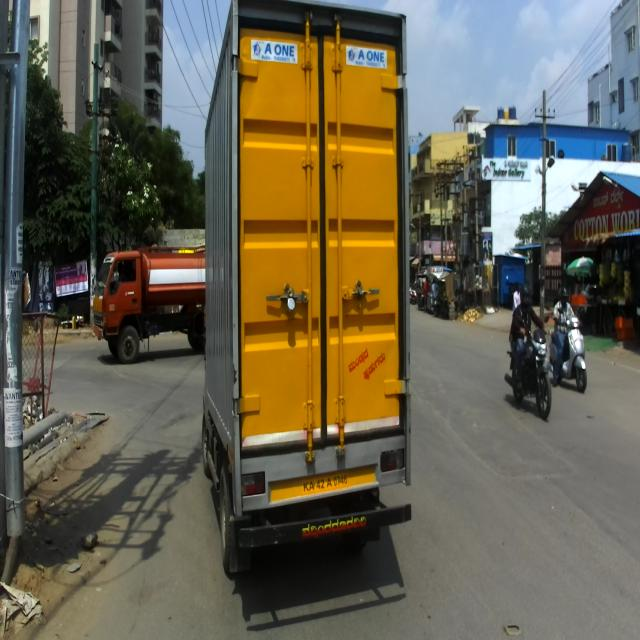electric pole ahead at: (3, 0, 35, 547)
motorcycle ahead at: (522, 321, 556, 424)
truck ahead at: (203, 0, 417, 564), (89, 252, 211, 369)
